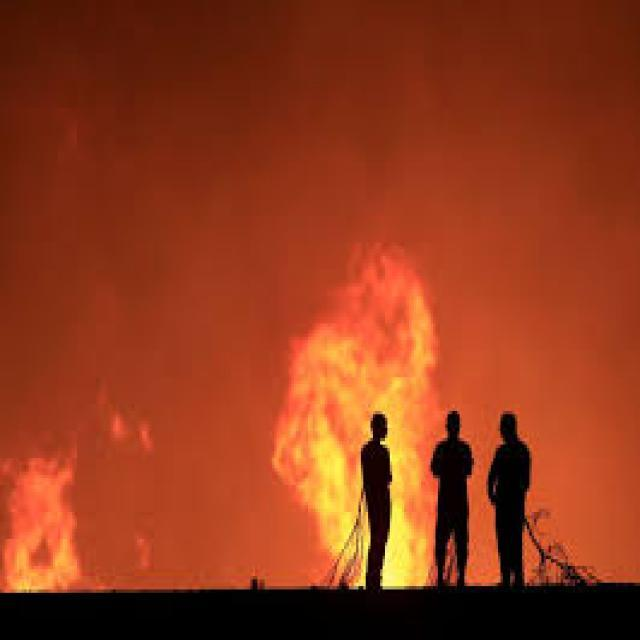Fire: (265, 235, 454, 592), (0, 429, 83, 596)
